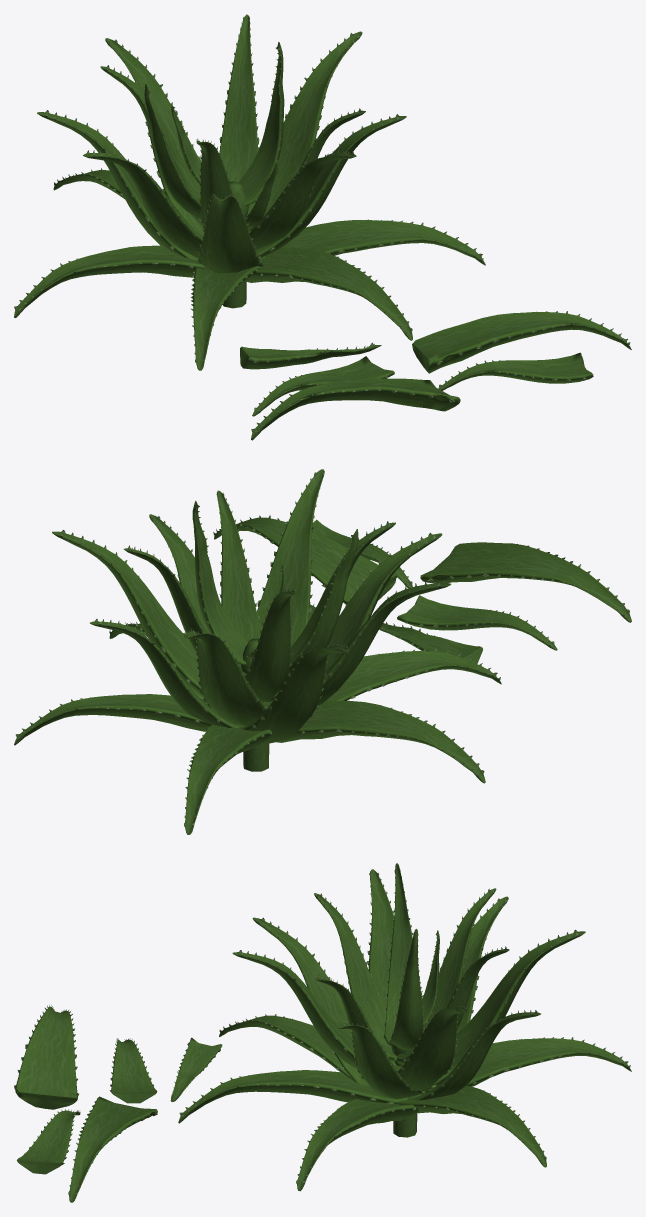
File: aleovera.glb
The picture shows the model from 3 angles, top to bottom: view 1: azimuth 30°, elevation 25°; view 2: azimuth 150°, elevation 25°; view 3: azimuth 270°, elevation 25°; orthographic projection. The views are drawn at different scales.
Parts seen in each view (by area): view 1: aloeLeaf_Kubwa1, aloeLeaf20, aloeLeaf7, aloeLeaf8, aloeLeaf18, aloeLeaf_Kubwa, aloeLeaf19, aloeLeaf6, aloeLeaf9, aloeLeaf17, aloeLeaf23, aloe_leaf_Kadiri1 (+14 smaller); view 2: aloeLeaf_Kubwa, aloeLeaf19, aloeLeaf17, aloeLeaf8, aloeLeaf16, aloeLeaf10, aloeLeaf23, aloeLeaf3, aloeLeaf13, aloeLeaf12, aloeLeaf1, aloeLeaf_Kubwa1 (+12 smaller); view 3: aloeLeaf_Kubwa, aloeLeaf20, aloeLeaf1, aloeLeaf16, aloeLeaf8, aloeLeaf_Kubwa1, aloeLeaf3, aloeLeaf7, aloeLeaf11, aloeLeaf6, aloeLeaf14, aloeLeaf17 (+14 smaller).
Part boxes in pixels (left/top/right/bottom): aloeLeaf_Kubwa1: left=412, top=311, right=631, bottom=373; aloeLeaf20: left=245, top=247, right=412, bottom=340; aloeLeaf7: left=282, top=219, right=485, bottom=265; aloeLeaf8: left=263, top=31, right=362, bottom=216; aloeLeaf18: left=219, top=14, right=259, bottom=215; aloeLeaf_Kubwa: left=251, top=378, right=460, bottom=440; aloeLeaf19: left=14, top=245, right=206, bottom=317; aloeLeaf6: left=197, top=193, right=263, bottom=273; aloeLeaf9: left=83, top=150, right=203, bottom=258; aloeLeaf17: left=248, top=150, right=356, bottom=249; aloeLeaf23: left=190, top=256, right=266, bottom=370; aloe_leaf_Kadiri1: left=438, top=352, right=593, bottom=390; aloeLeaf_Kubwa: left=420, top=542, right=631, bottom=622; aloeLeaf19: left=276, top=700, right=485, bottom=783; aloeLeaf17: left=257, top=469, right=324, bottom=647; aloeLeaf8: left=52, top=530, right=203, bottom=697; aloeLeaf16: left=184, top=628, right=269, bottom=726; aloeLeaf10: left=241, top=642, right=348, bottom=744; aloeLeaf23: left=325, top=648, right=501, bottom=701; aloeLeaf3: left=14, top=694, right=243, bottom=745; aloeLeaf13: left=216, top=490, right=260, bottom=642; aloeLeaf12: left=245, top=588, right=295, bottom=702; aloeLeaf1: left=184, top=724, right=272, bottom=834; aloeLeaf_Kubwa1: left=213, top=515, right=397, bottom=604; aloeLeaf_Kubwa: left=14, top=1005, right=78, bottom=1109; aloeLeaf20: left=178, top=1070, right=408, bottom=1123; aloeLeaf1: left=419, top=1037, right=631, bottom=1095; aloeLeaf16: left=422, top=929, right=585, bottom=1090; aloeLeaf8: left=398, top=1004, right=468, bottom=1090; aloeLeaf_Kubwa1: left=68, top=1096, right=157, bottom=1202; aloeLeaf3: left=397, top=1085, right=546, bottom=1167; aloeLeaf7: left=296, top=1098, right=418, bottom=1191; aloeLeaf11: left=314, top=893, right=395, bottom=1065; aloeLeaf6: left=252, top=917, right=368, bottom=1085; aloeLeaf14: left=336, top=1021, right=429, bottom=1099; aloeLeaf17: left=232, top=950, right=401, bottom=1069.
Size of the model in its own units: 0.5888 by 0.315 by 0.7748.
Materials: 2 (2 with a texture image).
